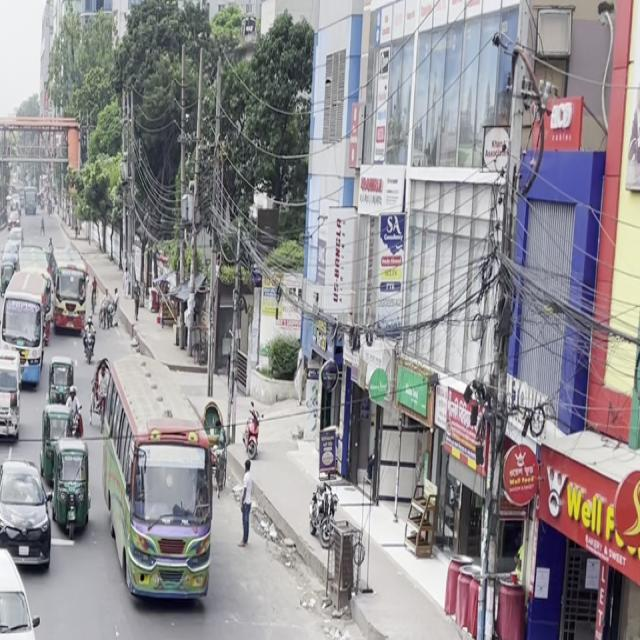bus: (95, 350, 218, 617), (0, 259, 55, 379), (46, 234, 90, 330)
car: (0, 459, 56, 579), (0, 539, 49, 640), (308, 621, 470, 640), (0, 352, 24, 446), (16, 334, 47, 390)
rickshaw: (49, 436, 94, 542)
